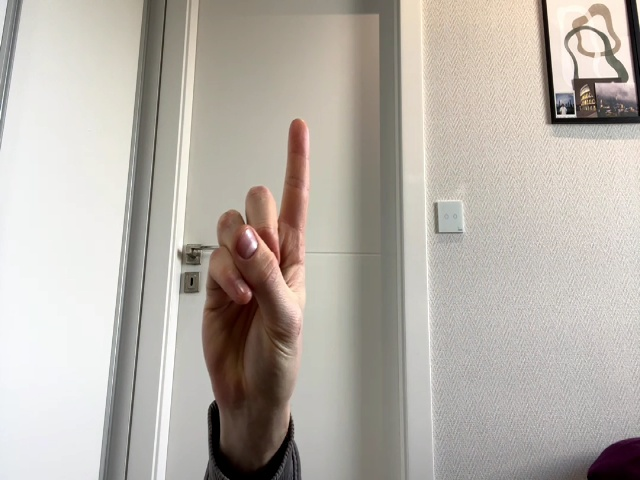Z: (202, 118, 309, 409)
